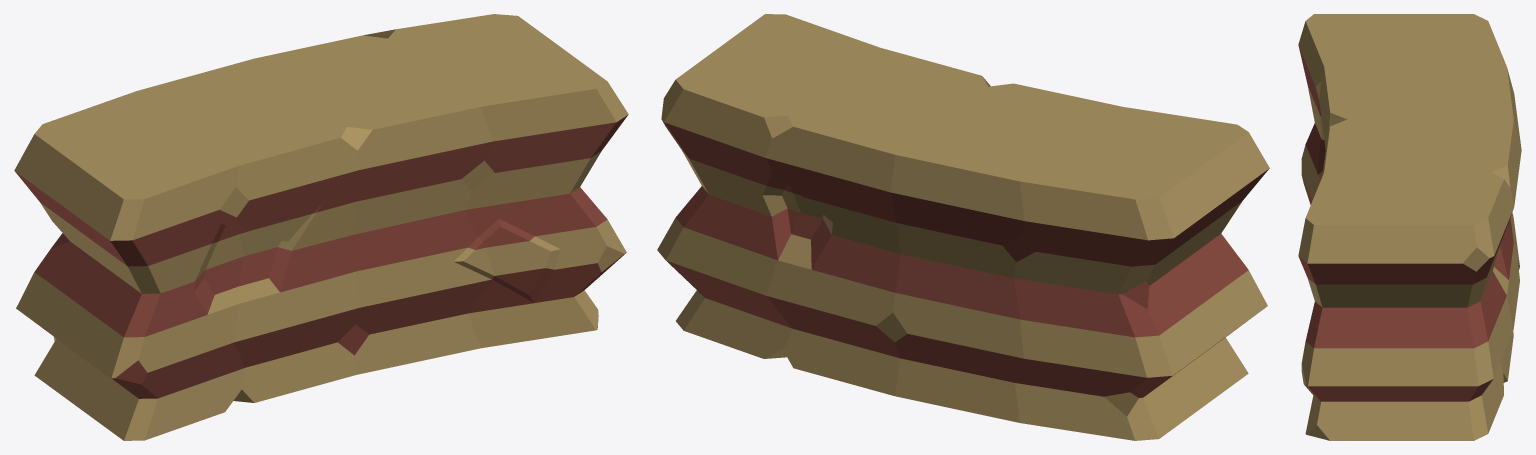
Rendered from WeatheredStone6.fbx.
The picture shows the model from 3 angles, left to right: view 1: azimuth 30°, elevation 25°; view 2: azimuth 150°, elevation 25°; view 3: azimuth 270°, elevation 25°; orthographic projection. The views are drawn at different scales.
Parts seen in each view (by area): view 1: Cube.020; view 2: Cube.020; view 3: Cube.020.
Part boxes in pixels (x1,y1,x2,y2): Cube.020: [14, 14, 628, 440]; Cube.020: [657, 14, 1269, 440]; Cube.020: [1298, 14, 1521, 440].
Bounding box in the file's own units: 7342 × 3268 × 3062.
